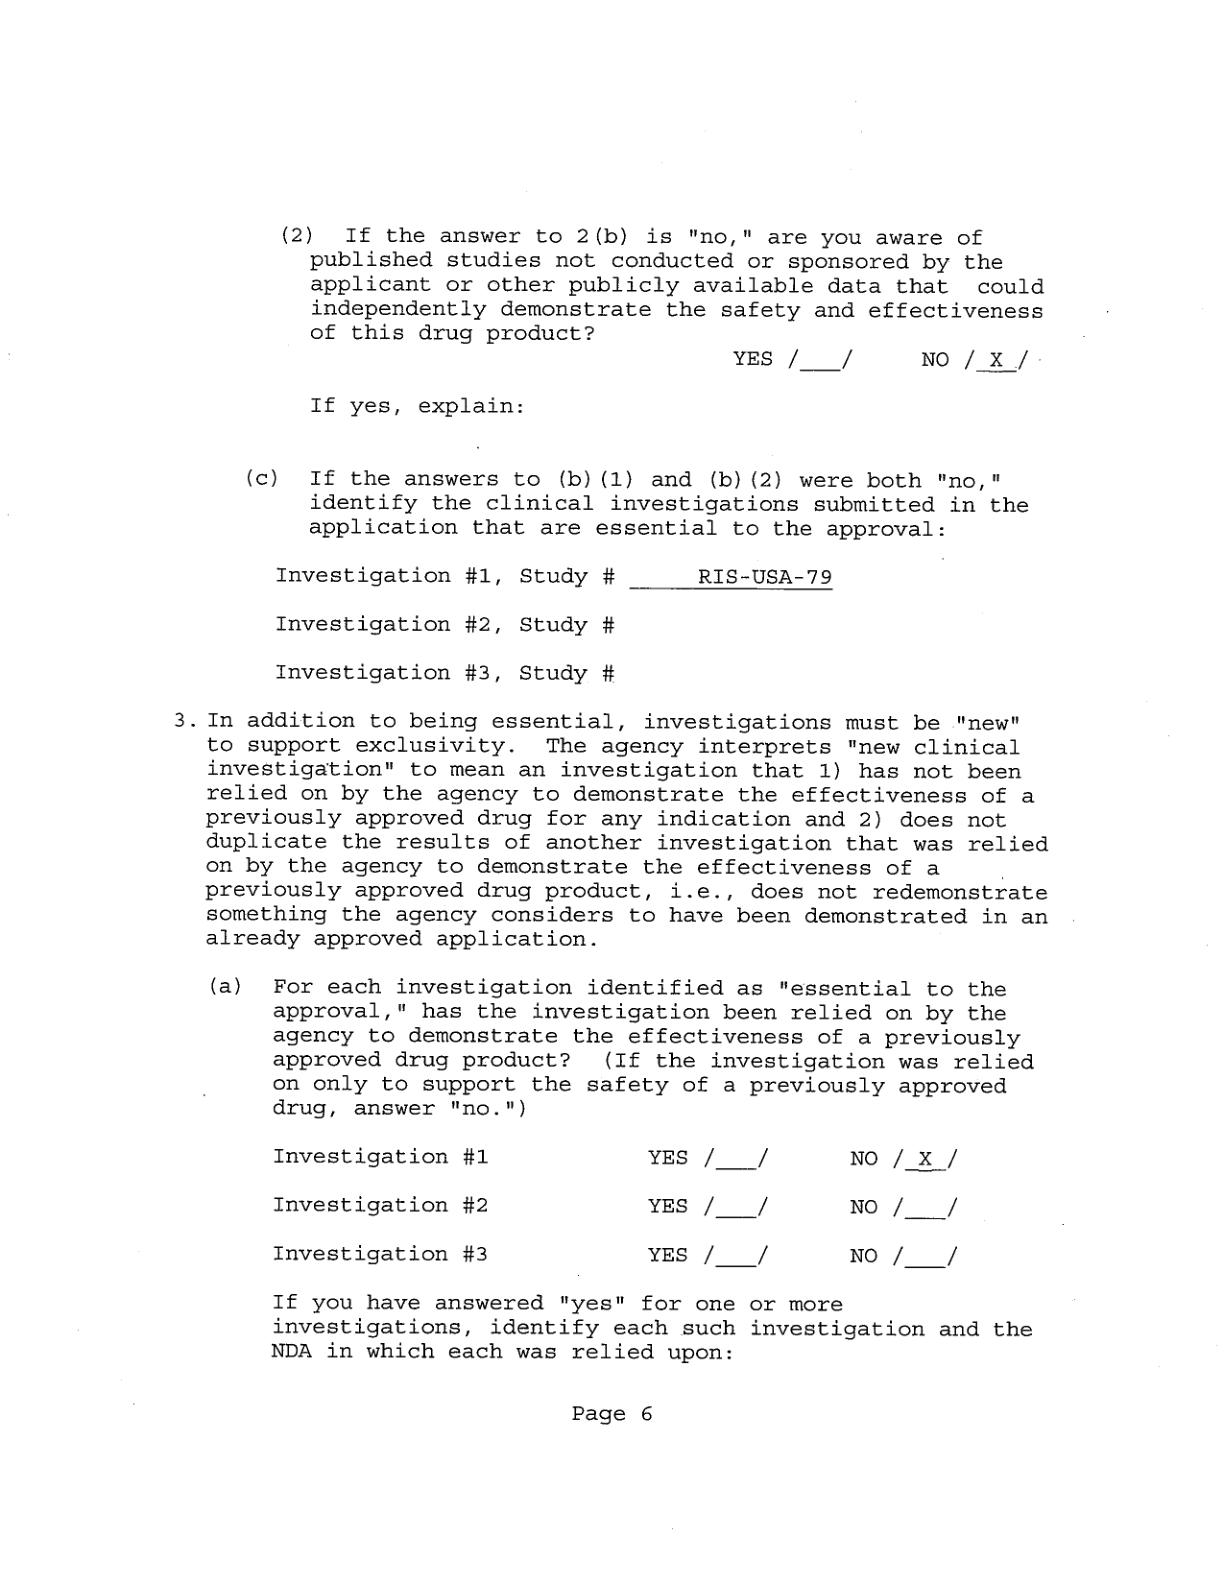nolines: (270, 1146, 962, 1272), (269, 564, 834, 687)
